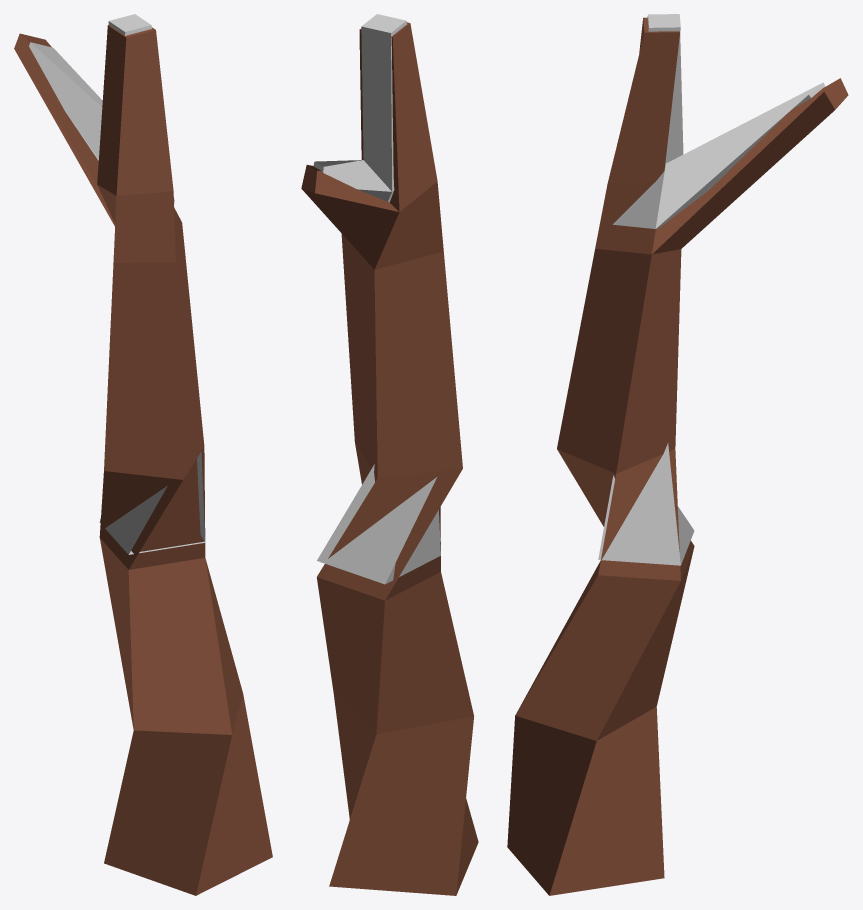
File: Tree_14_winter_mat.fbx
The picture shows the model from 3 angles, left to right: view 1: azimuth 30°, elevation 25°; view 2: azimuth 150°, elevation 25°; view 3: azimuth 270°, elevation 25°; orthographic projection. The views are drawn at different scales.
Visible parts, largest first — view 1: Tree_14_winter_mat; view 2: Tree_14_winter_mat; view 3: Tree_14_winter_mat.
Part boxes in pixels (left/top/right/bottom): Tree_14_winter_mat: left=14, top=14, right=272, bottom=895; Tree_14_winter_mat: left=301, top=14, right=478, bottom=895; Tree_14_winter_mat: left=507, top=14, right=848, bottom=895.
Bounding box in the file's own units: 1.08 × 6.15 × 2.29.
